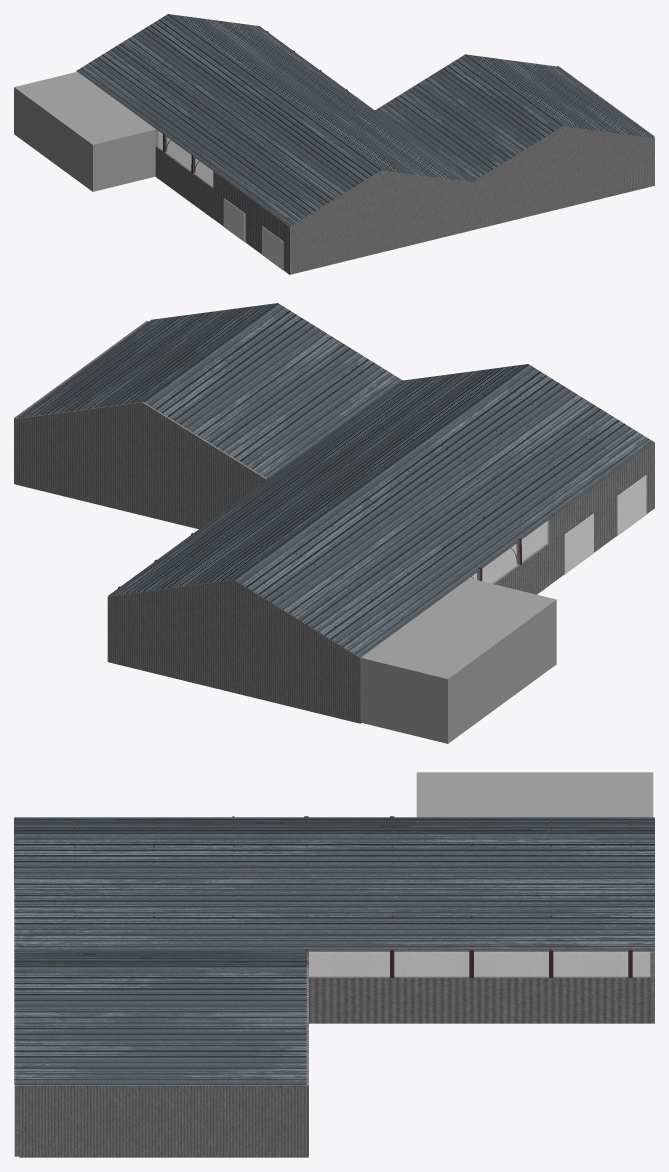
Rendered from L_bodega.fbx.
3 renders of one model, top to bottom at view 1: azimuth 30°, elevation 25°; view 2: azimuth 150°, elevation 25°; view 3: azimuth 270°, elevation 25°, orthographic. The views are drawn at different scales.
Visible parts, largest first — view 1: pPlane2, pPlane4, polySurface26, pPlane1, polySurface16, pCube3_02, polySurface25, polySurface2, polySurface4, polySurface12, polySurface17, pCube16 (+2 smaller); view 2: pPlane2, pPlane4, polySurface15, pPlane1, pCube3_02, polySurface18, polySurface25, polySurface4, polySurface2, polySurface12, pCube16, pCube17 (+1 smaller); view 3: pPlane1, pPlane4, polySurface19, polySurface3, pCube3_02, pPlane2, polySurface5, polySurface12, polySurface9.
Part boxes in pixels (x1=…): pPlane2: x1=76, y1=14, x2=381, y2=226; pPlane4: x1=375, y1=54, x2=654, y2=182; polySurface26: x1=288, y1=170, x2=472, y2=274; pPlane1: x1=168, y1=14, x2=471, y2=182; polySurface16: x1=471, y1=126, x2=654, y2=230; pCube3_02: x1=14, y1=72, x2=158, y2=191; polySurface25: x1=213, y1=171, x2=290, y2=274; polySurface2: x1=155, y1=146, x2=213, y2=218; polySurface4: x1=156, y1=130, x2=213, y2=187; polySurface12: x1=158, y1=131, x2=254, y2=249; polySurface17: x1=472, y1=156, x2=654, y2=227; pCube16: x1=223, y1=198, x2=245, y2=242; pPlane2: x1=234, y1=364, x2=654, y2=657; pPlane4: x1=18, y1=303, x2=402, y2=477; polySurface15: x1=107, y1=579, x2=362, y2=723; pPlane1: x1=108, y1=364, x2=527, y2=595; pCube3_02: x1=361, y1=578, x2=556, y2=743; polySurface18: x1=15, y1=401, x2=266, y2=529; polySurface25: x1=547, y1=442, x2=654, y2=584; polySurface4: x1=470, y1=520, x2=549, y2=583; polySurface2: x1=492, y1=543, x2=549, y2=594; polySurface12: x1=469, y1=510, x2=651, y2=584; pCube16: x1=564, y1=513, x2=593, y2=574; pCube17: x1=617, y1=475, x2=646, y2=535; pPlane1: x1=14, y1=832, x2=654, y2=951; pPlane4: x1=14, y1=950, x2=306, y2=1084; polySurface19: x1=19, y1=1085, x2=308, y2=1157; polySurface3: x1=309, y1=976, x2=654, y2=1023; pCube3_02: x1=416, y1=772, x2=653, y2=817; pPlane2: x1=14, y1=817, x2=654, y2=832; polySurface5: x1=309, y1=952, x2=654, y2=977; polySurface12: x1=309, y1=951, x2=650, y2=976; polySurface9: x1=74, y1=816, x2=632, y2=977.
Size of the model in its own units: 46.85 by 8.59 by 40.34.
Materials: 10 (5 with a texture image).
